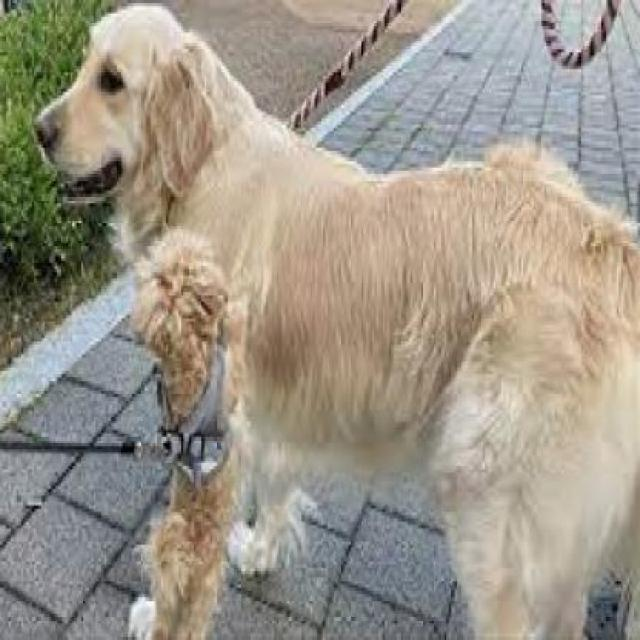Dog: (37, 3, 638, 637)
